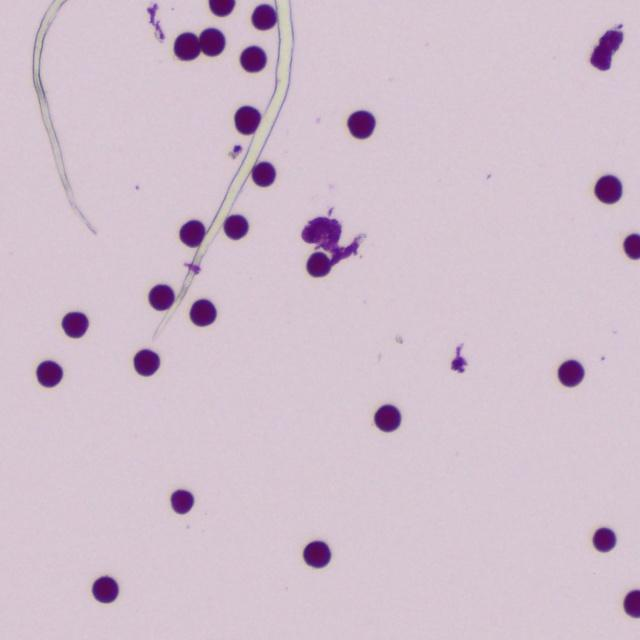viable: (347, 110, 375, 138), (594, 175, 622, 203), (199, 28, 225, 56), (174, 33, 200, 60), (558, 360, 584, 387), (36, 360, 62, 387), (374, 405, 400, 431), (304, 541, 330, 567), (92, 576, 118, 602), (235, 106, 260, 133), (134, 349, 159, 376), (190, 300, 216, 325), (149, 284, 174, 310), (180, 220, 204, 247), (240, 47, 266, 71), (62, 312, 88, 336), (251, 4, 274, 30), (224, 215, 248, 239), (252, 162, 275, 186), (593, 527, 616, 551), (307, 253, 330, 277), (172, 489, 193, 513), (624, 590, 639, 617), (209, 0, 234, 16), (624, 234, 639, 259)
